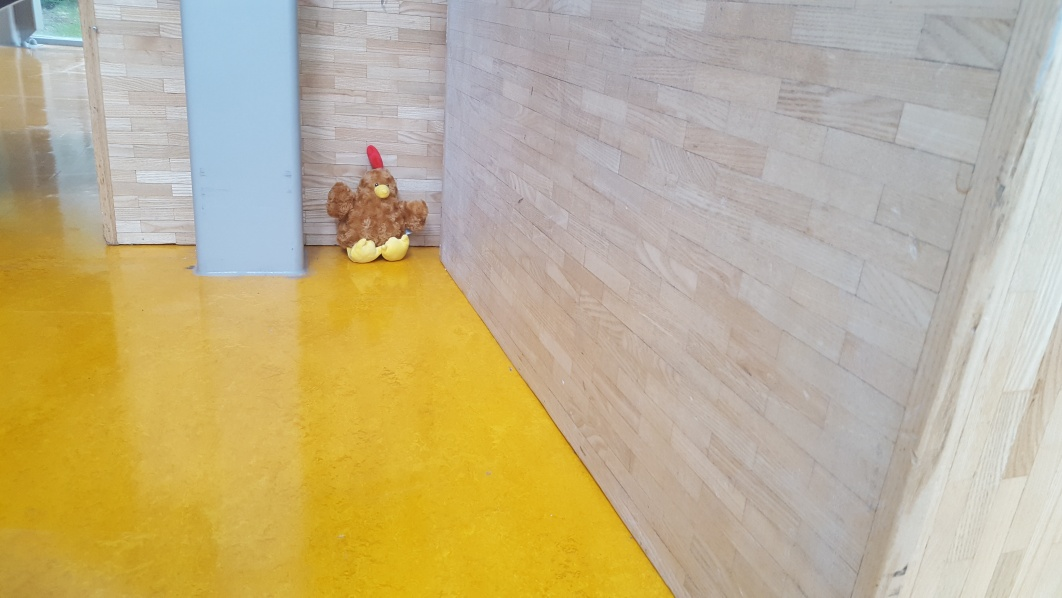chicken: (328, 142, 429, 263)
